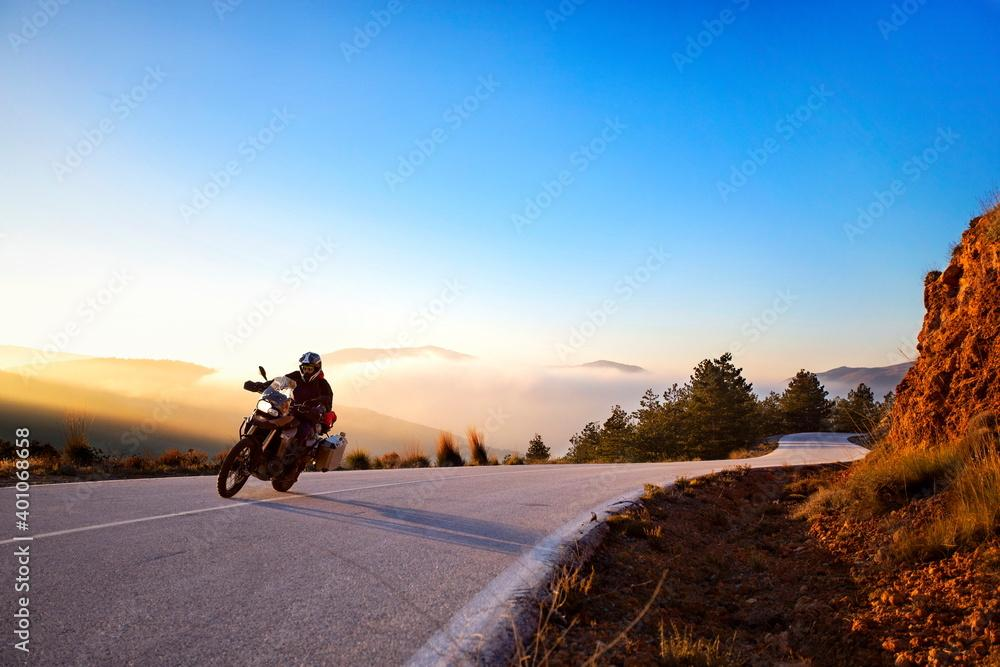helmet: (297, 350, 323, 384)
